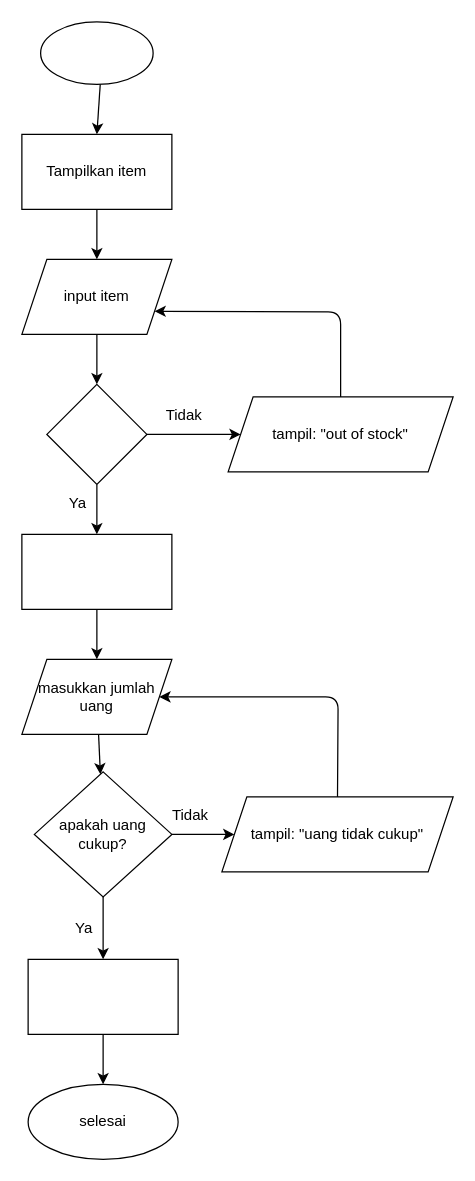
The diagram is 475 pixels wide and 1181 high, and some of its shapes have lost their labels. Here are the shapes that lost their labels. From the top down, the centre of each, then its label:
At (96,52): "mulai".
At (96,433): "jika stok tersedia".
At (96,571): "hitung total harga barang".
At (102,996): "checkout".
